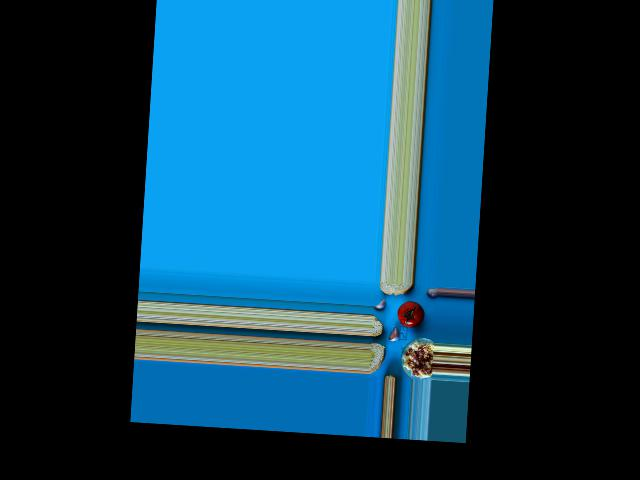tomato: (396, 300, 425, 327)
